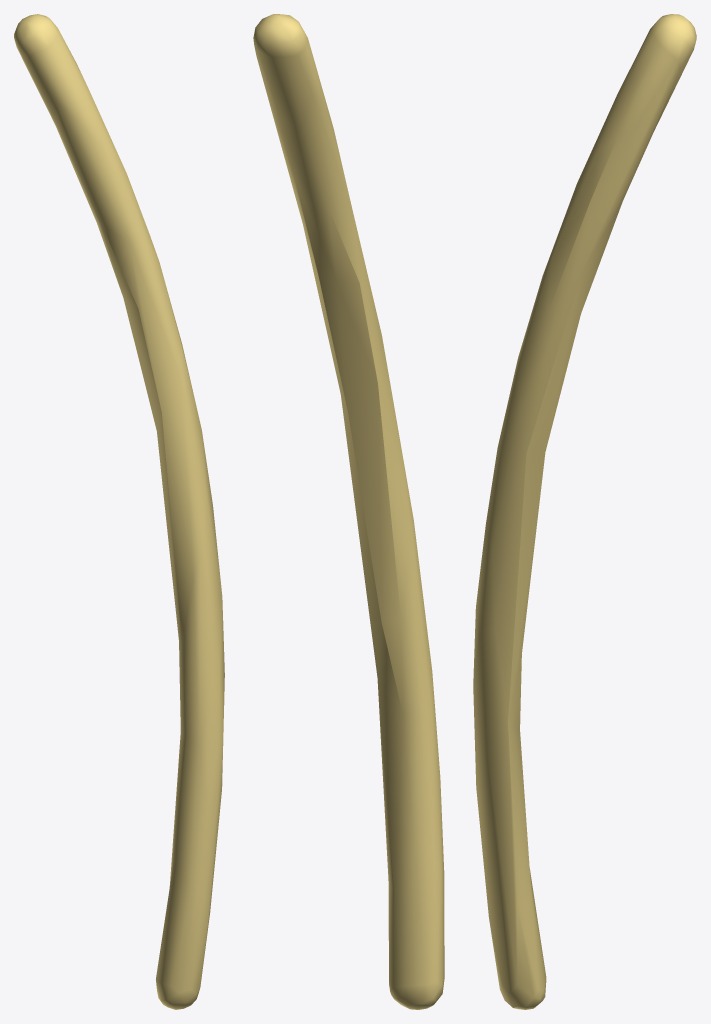
File: fma52732_fj3900.glb
3 views of the same model, side by side, from view 1: azimuth 90°, elevation 25°; view 2: azimuth 150°, elevation 25°; view 3: azimuth 270°, elevation 25° (orthographic). The views are drawn at different scales.
Visible parts, largest first — view 1: FMA52732_FJ3900; view 2: FMA52732_FJ3900; view 3: FMA52732_FJ3900.
Part boxes in pixels (<box>): FMA52732_FJ3900: <box>14,14,224,1009</box>; FMA52732_FJ3900: <box>253,14,444,1009</box>; FMA52732_FJ3900: <box>473,14,696,1009</box>.
Size of the model in its own units: 0.00155 by 0.0136 by 0.00269.
